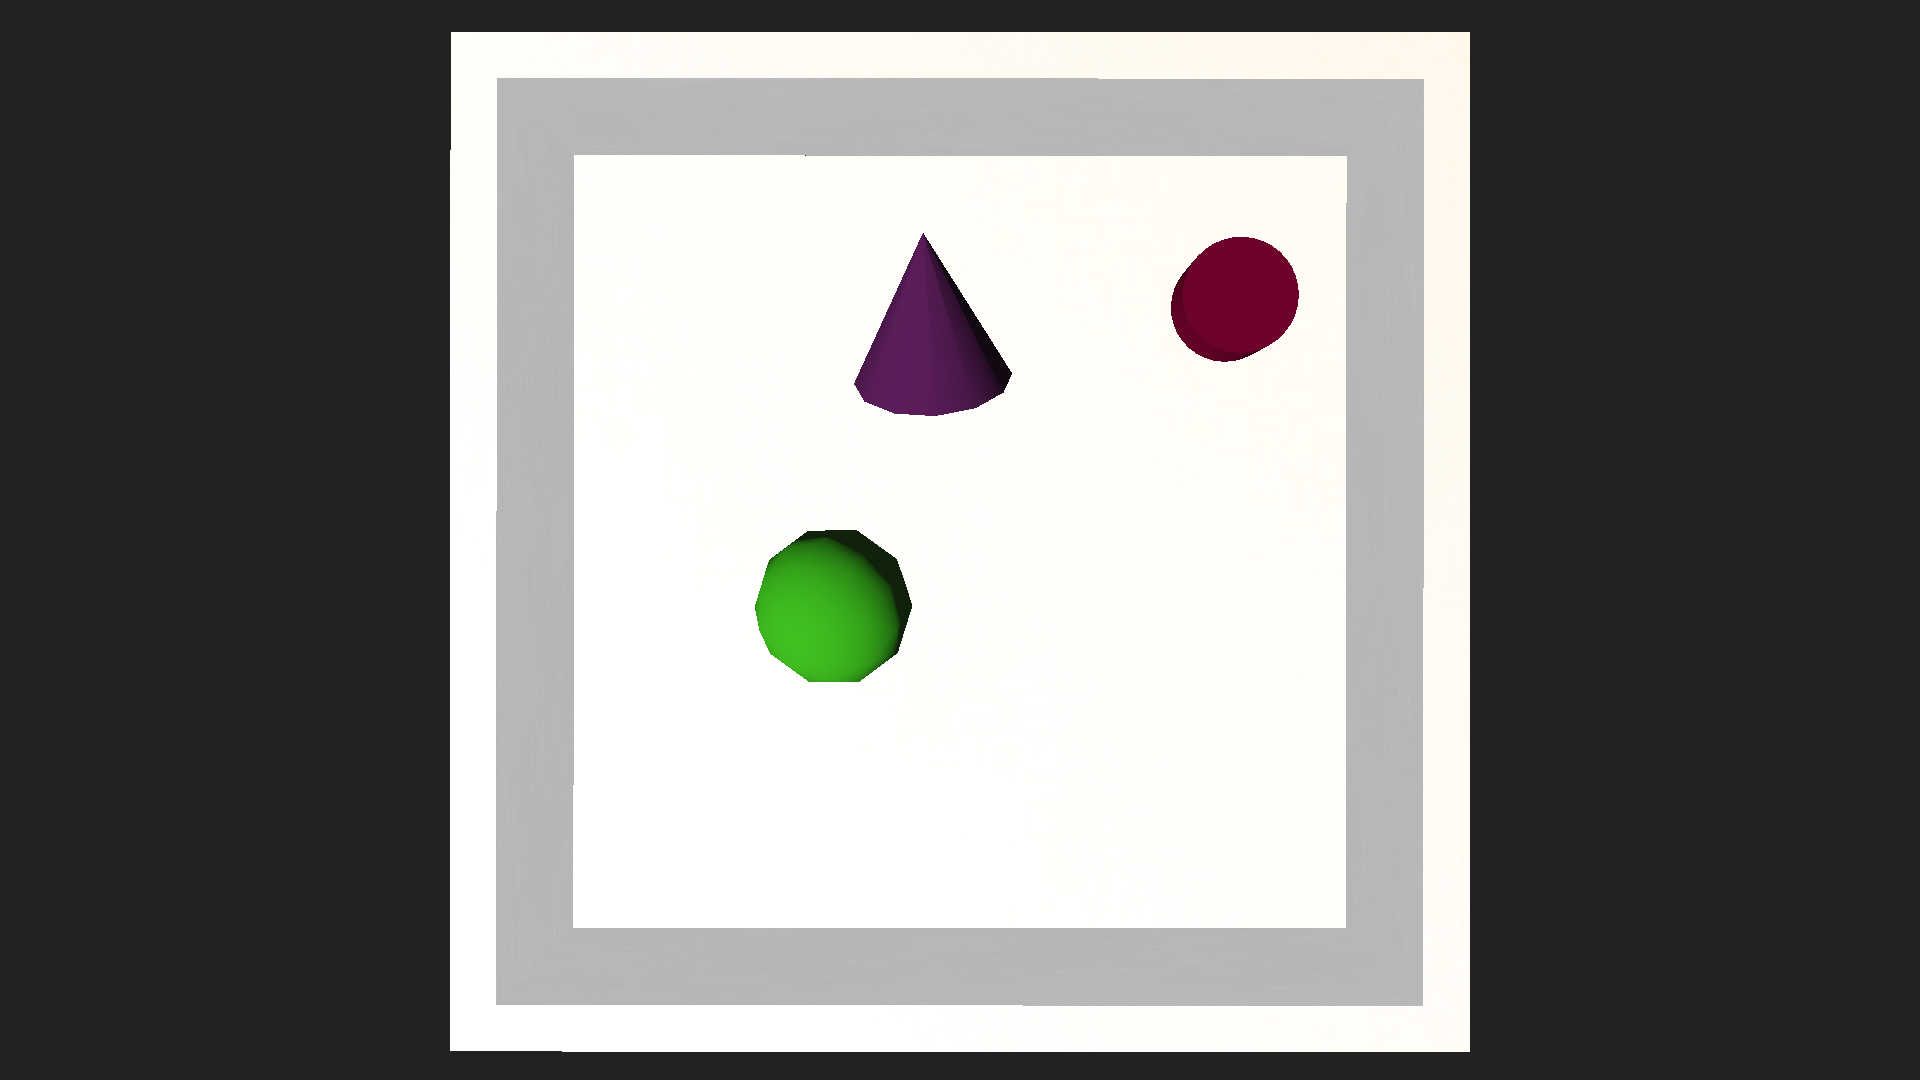cone: (1167, 232, 1302, 365)
cylinder: (843, 179, 1010, 423)
sphere: (752, 526, 913, 686)
